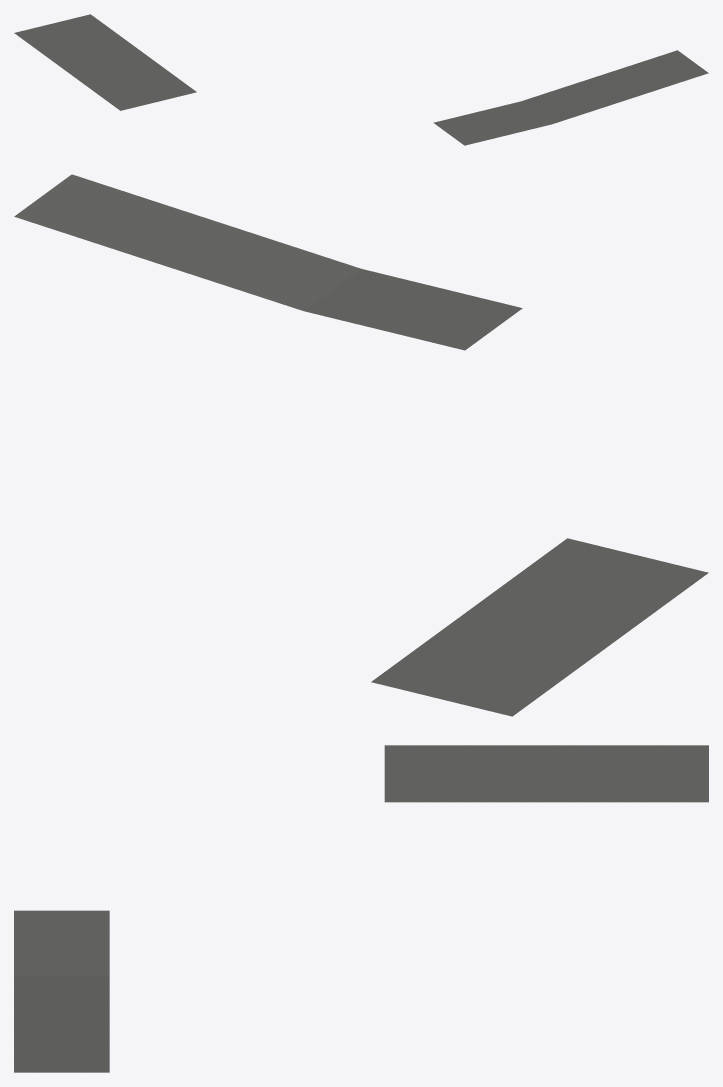
Rendered from kd_stage_135ded_1_11_bounded.glb.
3 views of the same model, one above another, from view 1: azimuth 30°, elevation 25°; view 2: azimuth 150°, elevation 25°; view 3: azimuth 270°, elevation 25° (orthographic). The views are drawn at different scales.
Parts seen in each view (by area): view 1: kd_stage_135ded_1_11_bounded; view 2: kd_stage_135ded_1_11_bounded; view 3: kd_stage_135ded_1_11_bounded.
Part boxes in pixels (<box>): kd_stage_135ded_1_11_bounded: <box>14,14,708,145</box>; kd_stage_135ded_1_11_bounded: <box>14,174,708,716</box>; kd_stage_135ded_1_11_bounded: <box>14,745,708,1072</box>.
Bounding box in the file's own units: 12.47 × 0.3296 × 10.56.
1 material, 1 textured.
